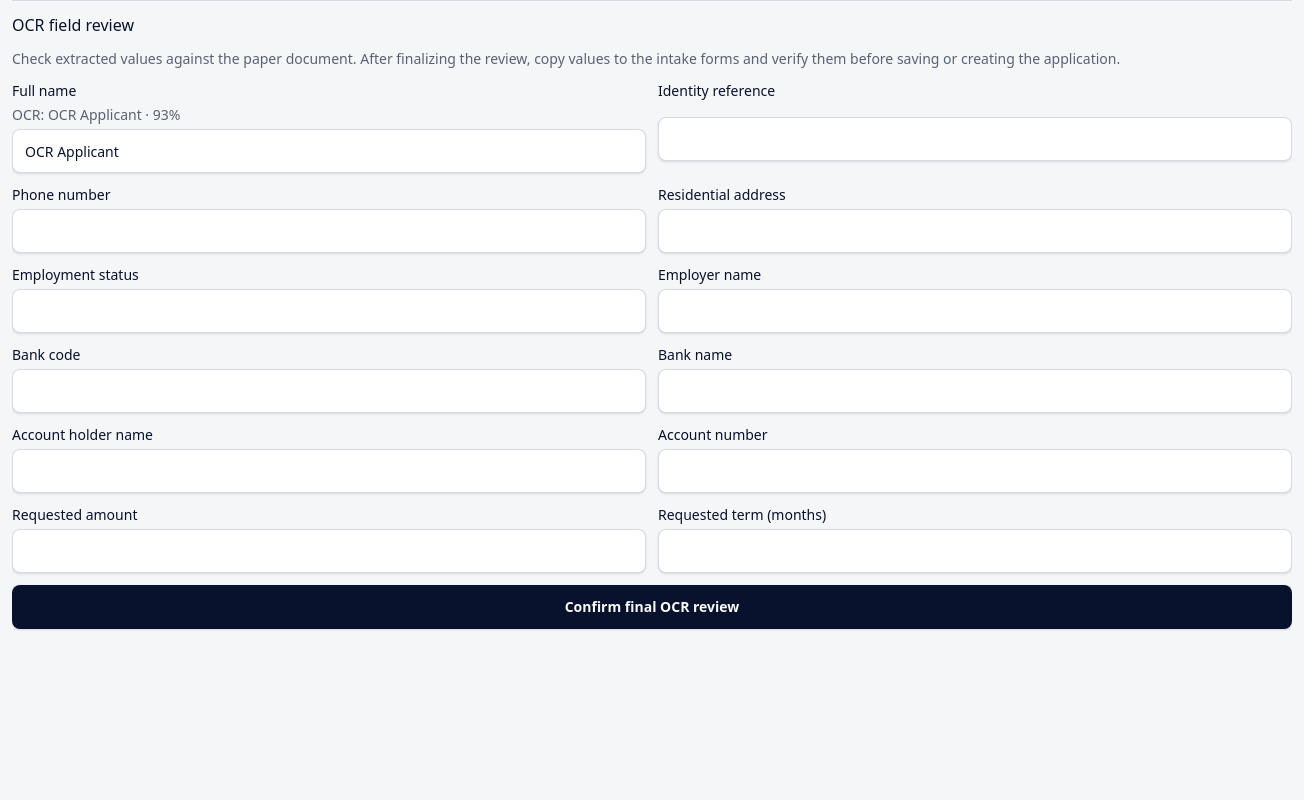
Test: IntakeOcrReviewPanel › reconciles a lost review response through GET without repeating POST or persisting values
Replace the text in the field showing "OCR Applicant" with "Recovered Applicant": (329, 151) [12,129,646,173]
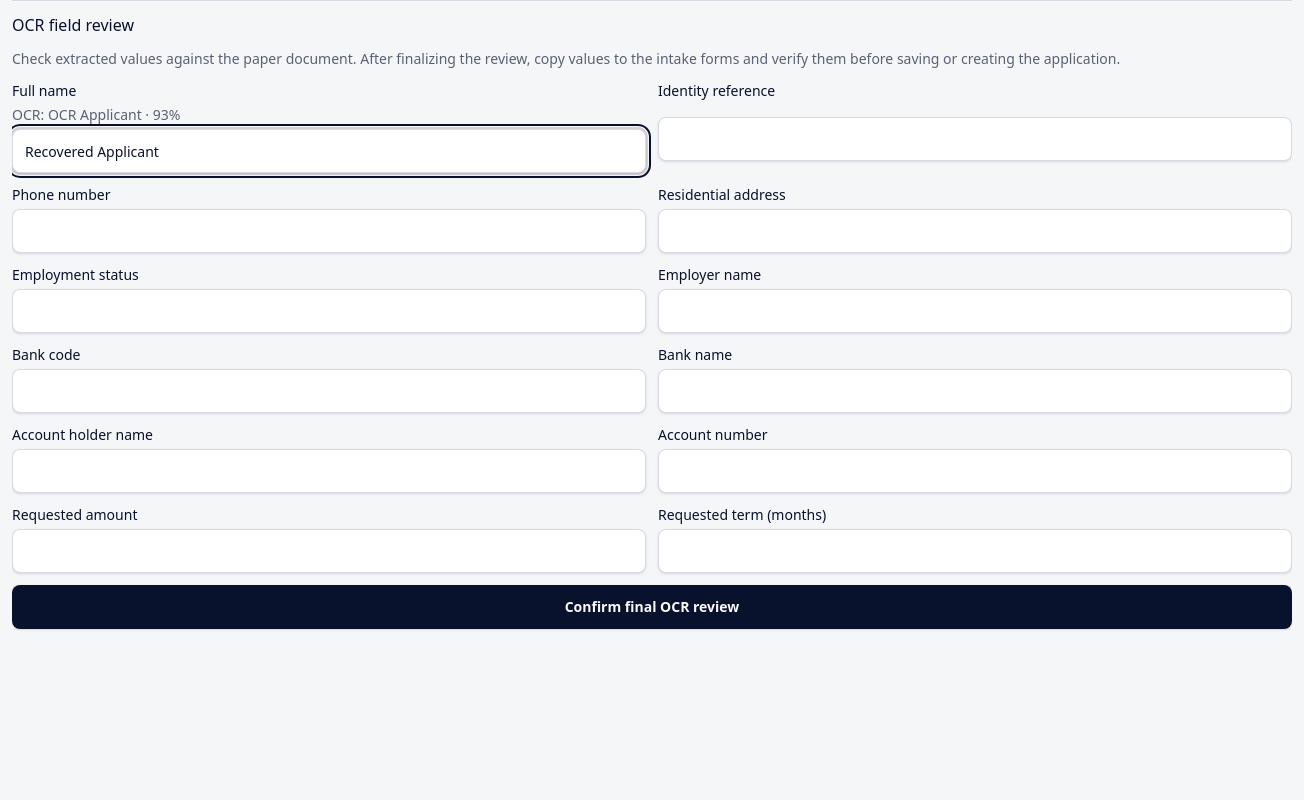
Click the button "Confirm final OCR review": (652, 607) [12,585,1292,629]
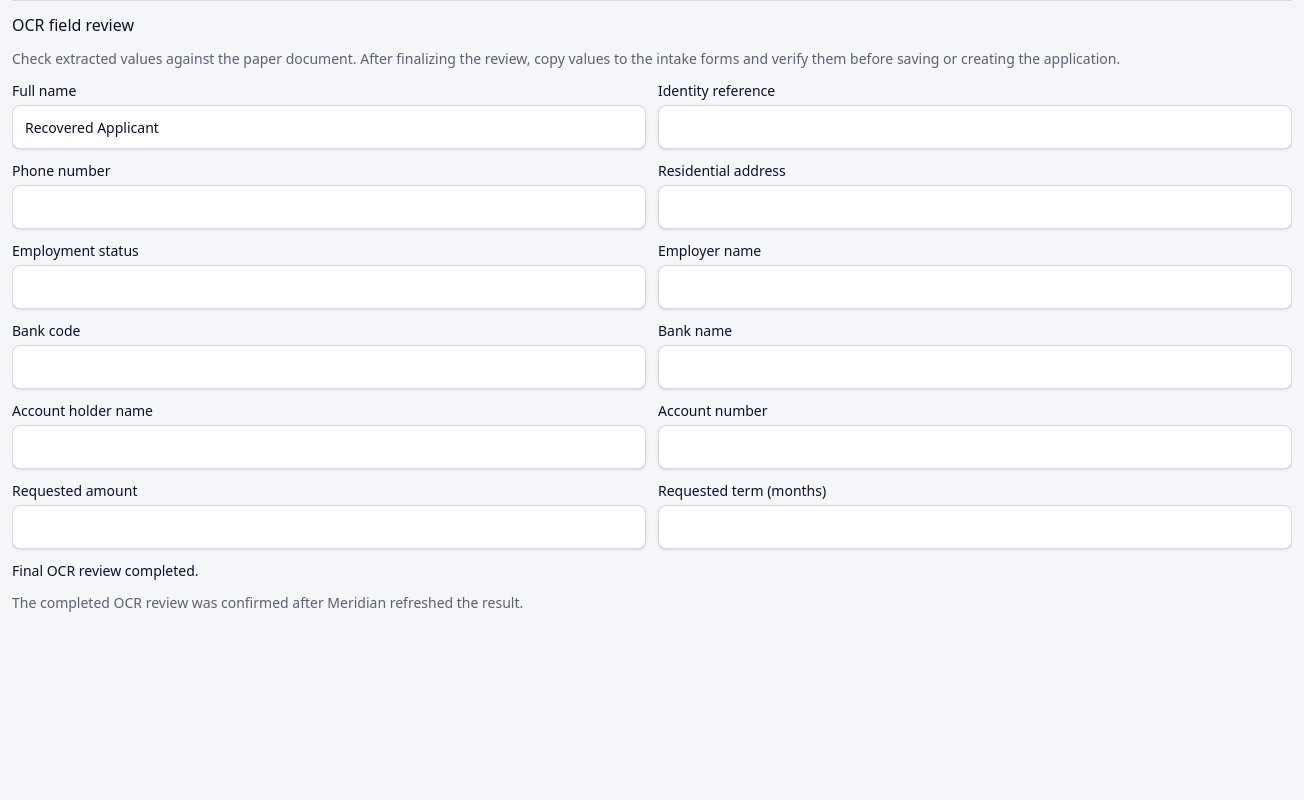
Expected: the text "The completed OCR review was confirmed after Meridian refreshed the result." is shown, [12,593,523,612]
